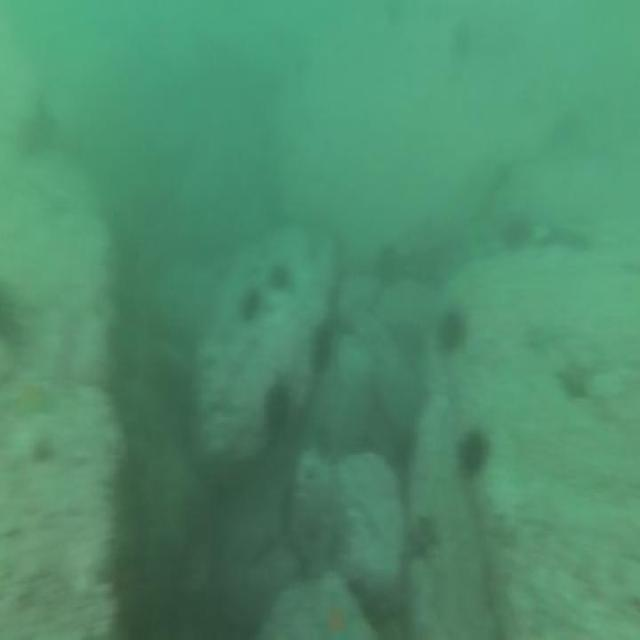echinus: (454, 424, 491, 484), (20, 102, 57, 160), (434, 304, 468, 361), (262, 380, 294, 440), (0, 280, 24, 351), (499, 212, 535, 256), (373, 239, 402, 292), (448, 14, 476, 65), (310, 319, 335, 375), (236, 286, 262, 327), (266, 258, 293, 296)
starfish: (313, 588, 360, 640), (401, 512, 443, 567), (553, 354, 598, 405)
